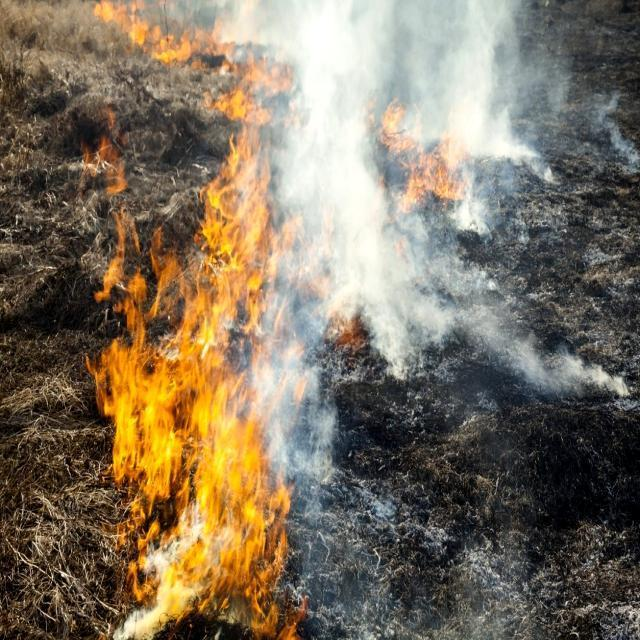Fire: (94, 0, 312, 619), (372, 110, 466, 208)
Smoke: (271, 4, 590, 436)
